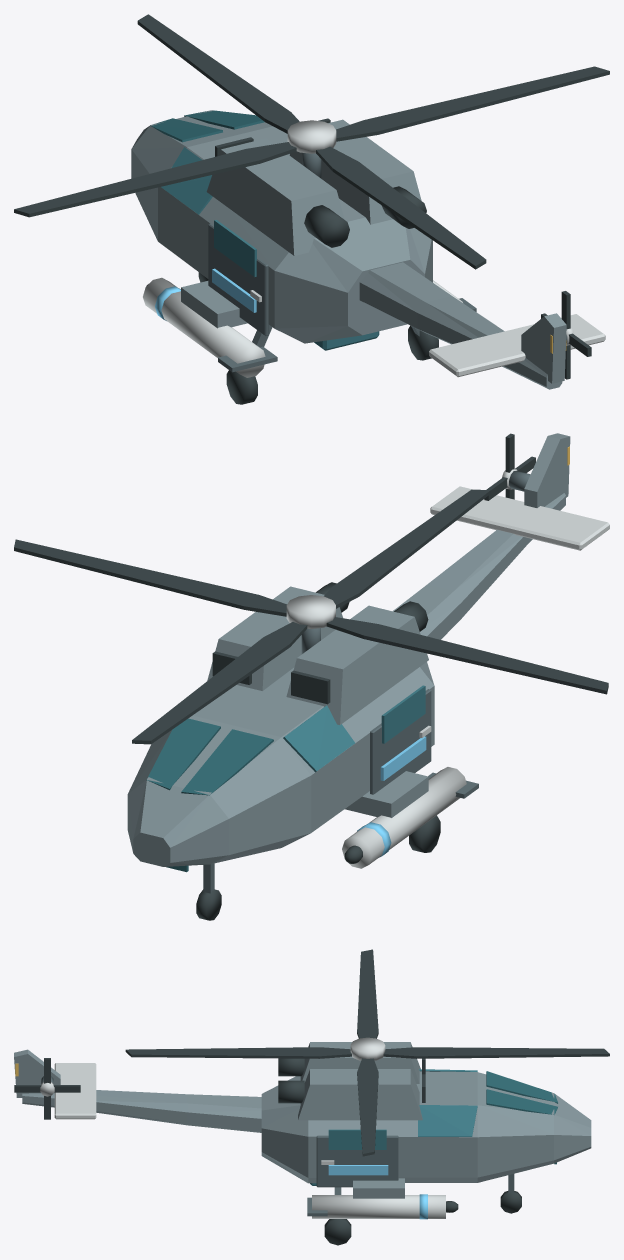
Rendered from HEL_EscortAsw_T2.fbx.
3 renders of one model, top to bottom at view 1: azimuth 30°, elevation 25°; view 2: azimuth 150°, elevation 25°; view 3: azimuth 270°, elevation 25°, orthographic. The views are drawn at different scales.
Visible parts, largest first — view 1: MachinedHelicopterFuselage, TwinEngineCowling, TaperedTailBoom, MainRotorBlade_03, MainRotorBlade_01, MainRotorBlade_04, TwinEngineCowling.001, MainRotorBlade_02, HorizontalTailplane, AirDroppedTorpedo, CabinDoor, VerticalTailFin (+11 smaller); view 2: MachinedHelicopterFuselage, TwinEngineCowling, TaperedTailBoom, HorizontalTailplane, MainRotorBlade_03, MainRotorBlade_01, MainRotorBlade_02, MainRotorBlade_04, AirDroppedTorpedo, TwinEngineCowling.001, FramedForwardWindshield, CabinDoor (+10 smaller); view 3: MachinedHelicopterFuselage, TaperedTailBoom, TwinEngineCowling.001, AirDroppedTorpedo.001, CabinDoor.001, MainRotorBlade_02, MainRotorBlade_04, HorizontalTailplane, PilotSideWindow.001, TwinEngineCowling, MainRotorBlade_01, MainRotorBlade_03 (+11 smaller).
Boxes of the visible parts, x1=… form: MachinedHelicopterFuselage: x1=131, y1=110, x2=432, y2=343; TwinEngineCowling: x1=206, y1=138, x2=344, y2=255; TaperedTailBoom: x1=359, y1=262, x2=562, y2=389; MainRotorBlade_03: x1=14, y1=142, x2=296, y2=217; MainRotorBlade_01: x1=336, y1=66, x2=609, y2=141; MainRotorBlade_04: x1=316, y1=146, x2=486, y2=269; TwinEngineCowling.001: x1=289, y1=119, x2=421, y2=224; MainRotorBlade_02: x1=137, y1=14, x2=299, y2=133; HorizontalTailplane: x1=429, y1=314, x2=605, y2=377; AirDroppedTorpedo: x1=143, y1=277, x2=265, y2=377; CabinDoor: x1=208, y1=223, x2=268, y2=335; VerticalTailFin: x1=521, y1=313, x2=566, y2=383; MachinedHelicopterFuselage: x1=127, y1=662, x2=434, y2=866; TwinEngineCowling: x1=286, y1=605, x2=428, y2=724; TaperedTailBoom: x1=393, y1=493, x2=565, y2=639; HorizontalTailplane: x1=430, y1=486, x2=609, y2=550; MainRotorBlade_03: x1=326, y1=617, x2=608, y2=694; MainRotorBlade_01: x1=14, y1=539, x2=286, y2=616; MainRotorBlade_02: x1=132, y1=622, x2=307, y2=744; MainRotorBlade_04: x1=324, y1=489, x2=490, y2=608; AirDroppedTorpedo: x1=342, y1=767, x2=466, y2=868; TwinEngineCowling.001: x1=207, y1=586, x2=342, y2=690; FramedForwardWindshield: x1=181, y1=729, x2=273, y2=795; CabinDoor: x1=370, y1=689, x2=431, y2=794; MachinedHelicopterFuselage: x1=261, y1=1071, x2=591, y2=1183; TaperedTailBoom: x1=22, y1=1090, x2=261, y2=1132; TwinEngineCowling.001: x1=298, y1=1069, x2=422, y2=1120; AirDroppedTorpedo.001: x1=312, y1=1195, x2=445, y2=1218; CabinDoor.001: x1=316, y1=1135, x2=398, y2=1187; MainRotorBlade_02: x1=383, y1=1047, x2=609, y2=1058; MainRotorBlade_04: x1=125, y1=1047, x2=351, y2=1058; HorizontalTailplane: x1=54, y1=1063, x2=96, y2=1119; PilotSideWindow.001: x1=418, y1=1105, x2=477, y2=1136; TwinEngineCowling: x1=300, y1=1042, x2=420, y2=1083; MainRotorBlade_01: x1=357, y1=1058, x2=378, y2=1156; MainRotorBlade_03: x1=357, y1=949, x2=378, y2=1038.
Bounding box in the file's own units: 260 × 98.95 × 320.
